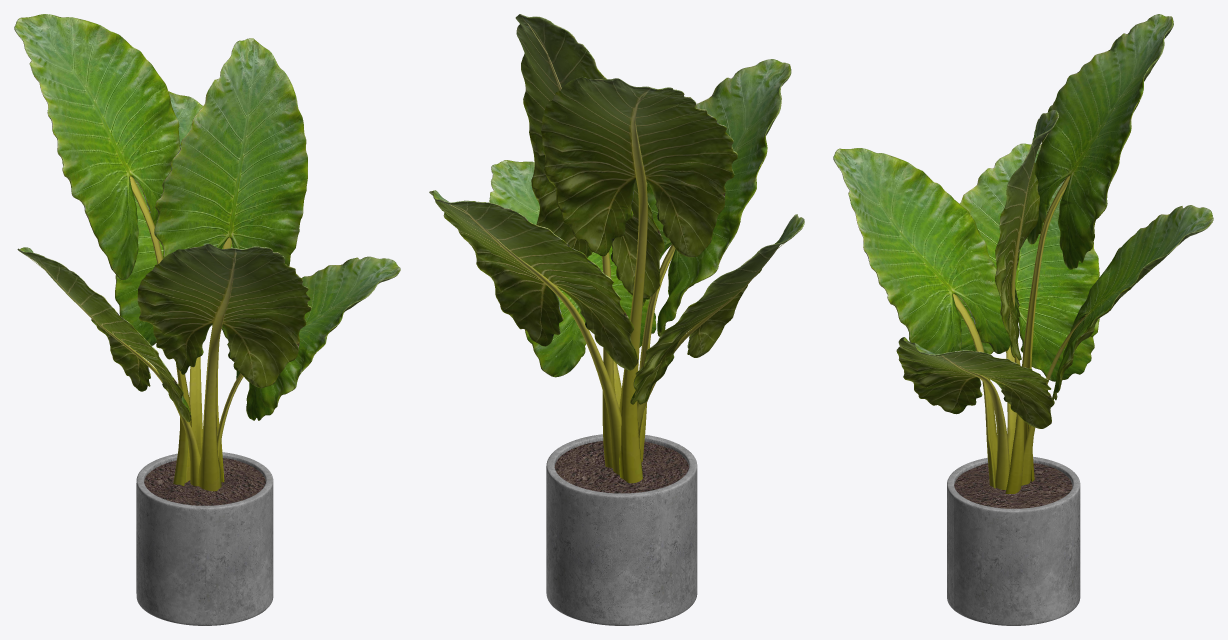
The model's file is plant_5.glb.
3 views of the same model, side by side, from view 1: azimuth 30°, elevation 25°; view 2: azimuth 150°, elevation 25°; view 3: azimuth 270°, elevation 25° (orthographic). The views are drawn at different scales.
Visible parts, largest first — view 1: Plants_VOL01_05; view 2: Plants_VOL01_05; view 3: Plants_VOL01_05.
Part boxes in pixels (x1,y1,x2,y2): Plants_VOL01_05: (14, 14, 400, 625); Plants_VOL01_05: (429, 14, 804, 625); Plants_VOL01_05: (833, 14, 1213, 625).
Size of the model in its own units: 0.72 by 1.15 by 0.7441.
Materials: 5 (5 with a texture image).
